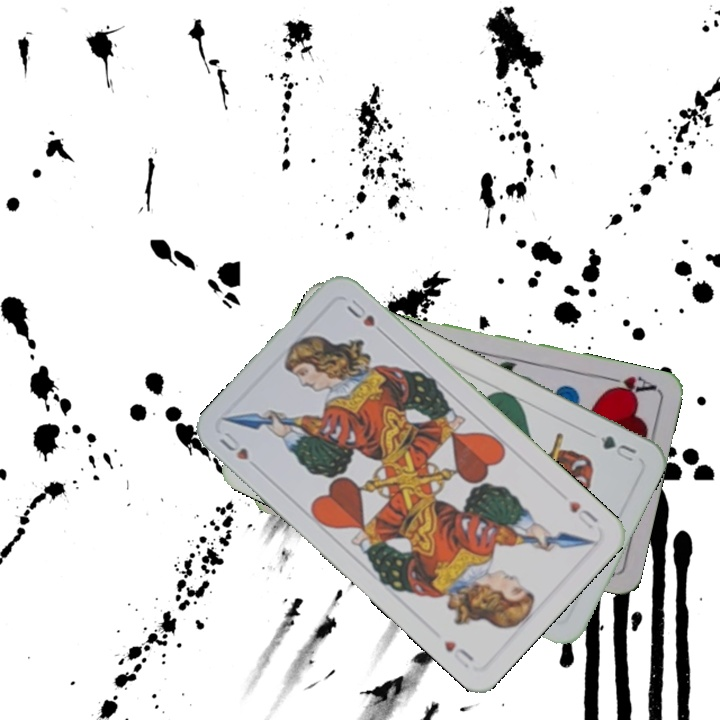GU: (596, 431, 639, 465)
HA: (599, 371, 658, 399)
HU: (564, 496, 601, 532), (215, 428, 251, 463)
